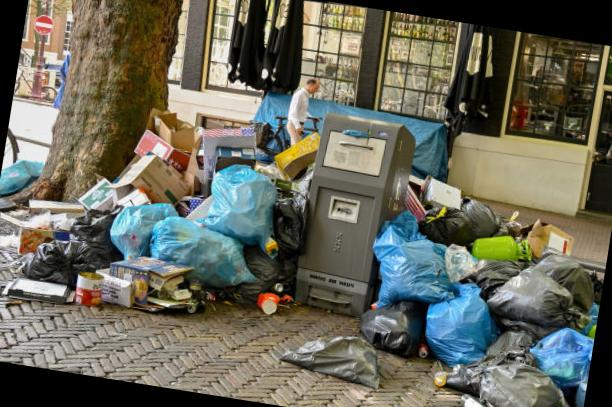trash: (323, 152, 612, 407), (228, 119, 328, 312), (8, 180, 138, 302), (362, 205, 466, 314), (440, 308, 546, 404), (142, 212, 260, 290), (479, 252, 576, 346), (420, 274, 497, 384), (279, 316, 388, 391), (201, 160, 281, 258), (518, 233, 609, 316), (114, 248, 206, 325), (188, 103, 266, 190), (422, 188, 517, 258), (109, 132, 190, 214), (420, 240, 532, 298), (520, 308, 598, 390), (3, 178, 83, 256), (104, 190, 176, 266), (253, 126, 328, 197), (354, 288, 429, 356), (478, 345, 558, 407), (507, 210, 585, 272), (0, 259, 78, 318), (462, 222, 542, 278), (167, 170, 228, 237), (388, 168, 462, 222), (86, 248, 142, 312), (0, 146, 52, 200), (69, 258, 118, 314), (72, 162, 120, 214)
trash_can_overflow: (48, 34, 579, 407)
